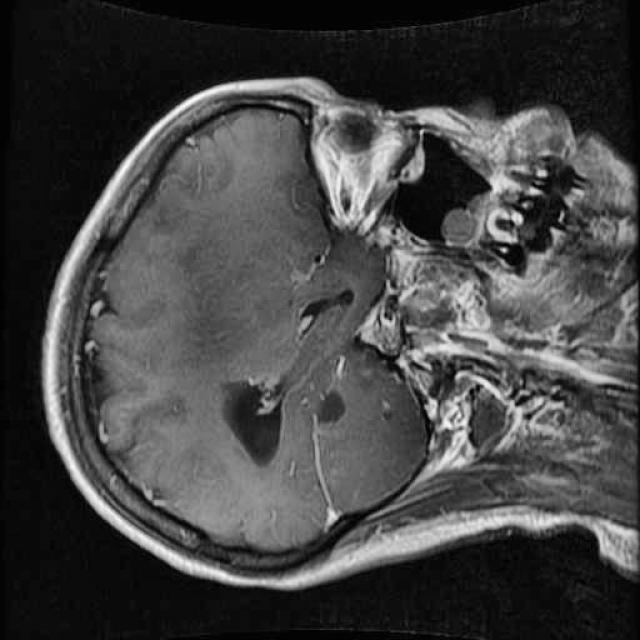Tumor: (301, 372, 367, 437)
